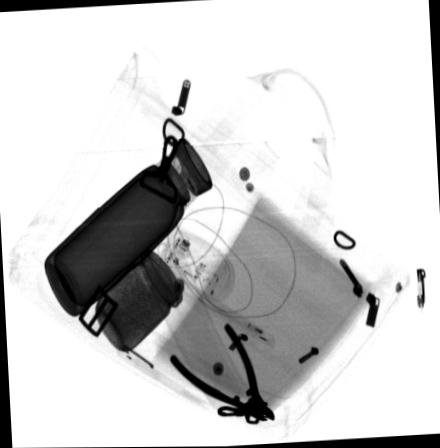Pliers: (168, 321, 274, 423)
